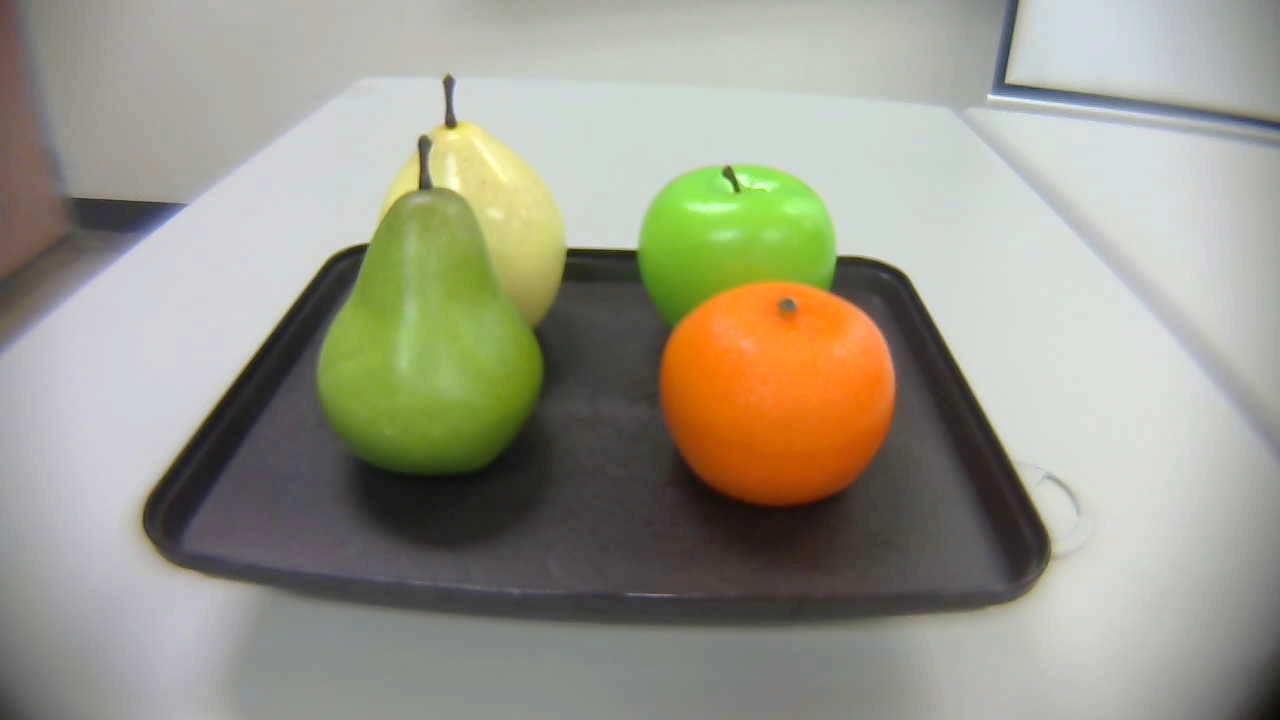green apple: (628, 161, 843, 334)
green pear: (320, 136, 542, 474)
orange: (663, 276, 908, 521)
western pear: (372, 79, 575, 341)
